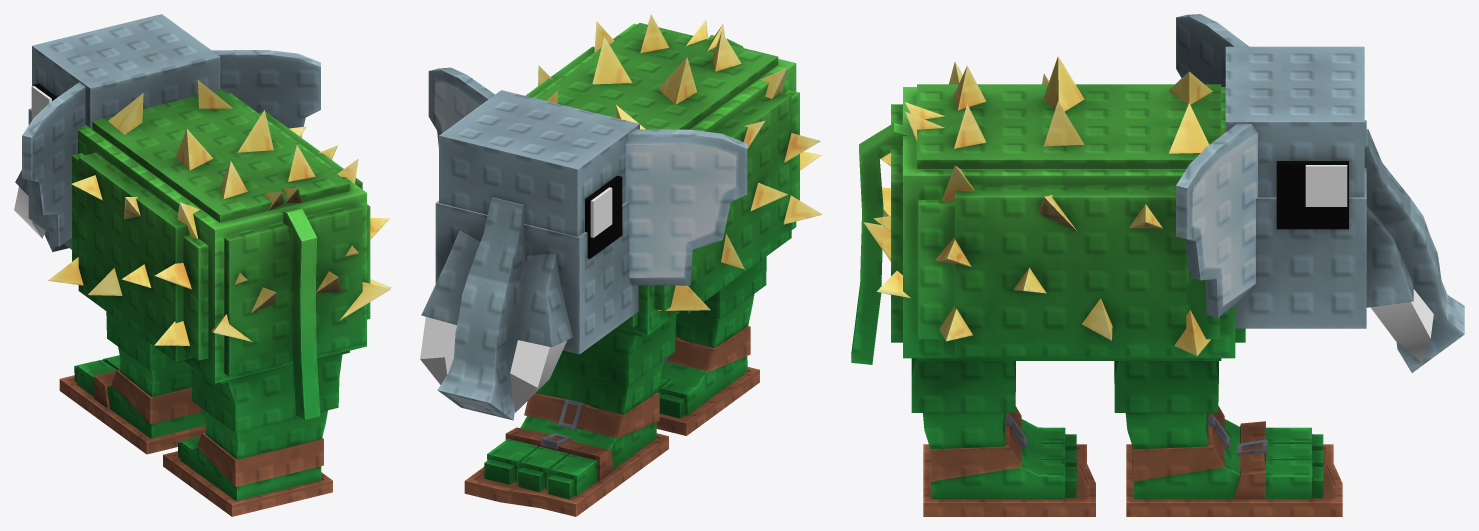
The model's file is Lirili Larila.fbx.
3 views of the same model, side by side, from view 1: azimuth 30°, elevation 25°; view 2: azimuth 150°, elevation 25°; view 3: azimuth 270°, elevation 25° (orthographic). The views are drawn at different scales.
Parts seen in each view (by area): view 1: Lirili Larila; view 2: Lirili Larila; view 3: Lirili Larila.
Boxes of the visible parts, x1,y1,x2,y2 form: Lirili Larila: (14, 14, 391, 516); Lirili Larila: (420, 14, 822, 516); Lirili Larila: (851, 14, 1464, 516).
Bounding box in the file's own units: 439 × 483 × 655.
